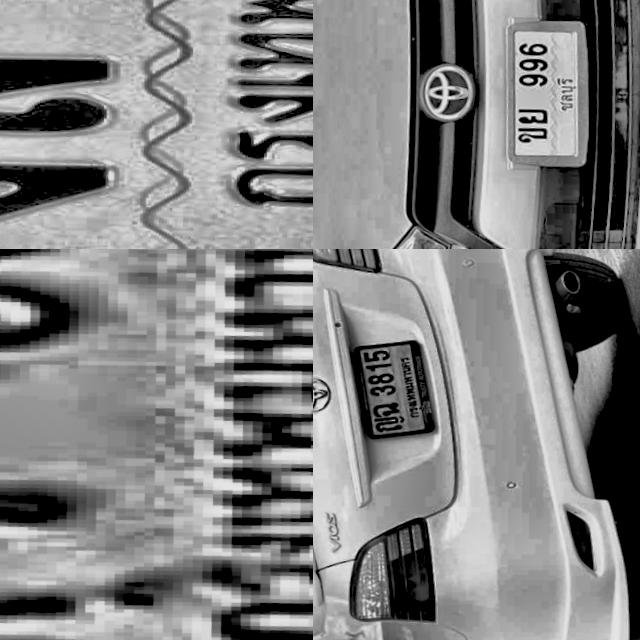license-plate: (0, 249, 313, 640), (0, 0, 313, 249), (494, 0, 608, 163), (344, 324, 456, 442)
